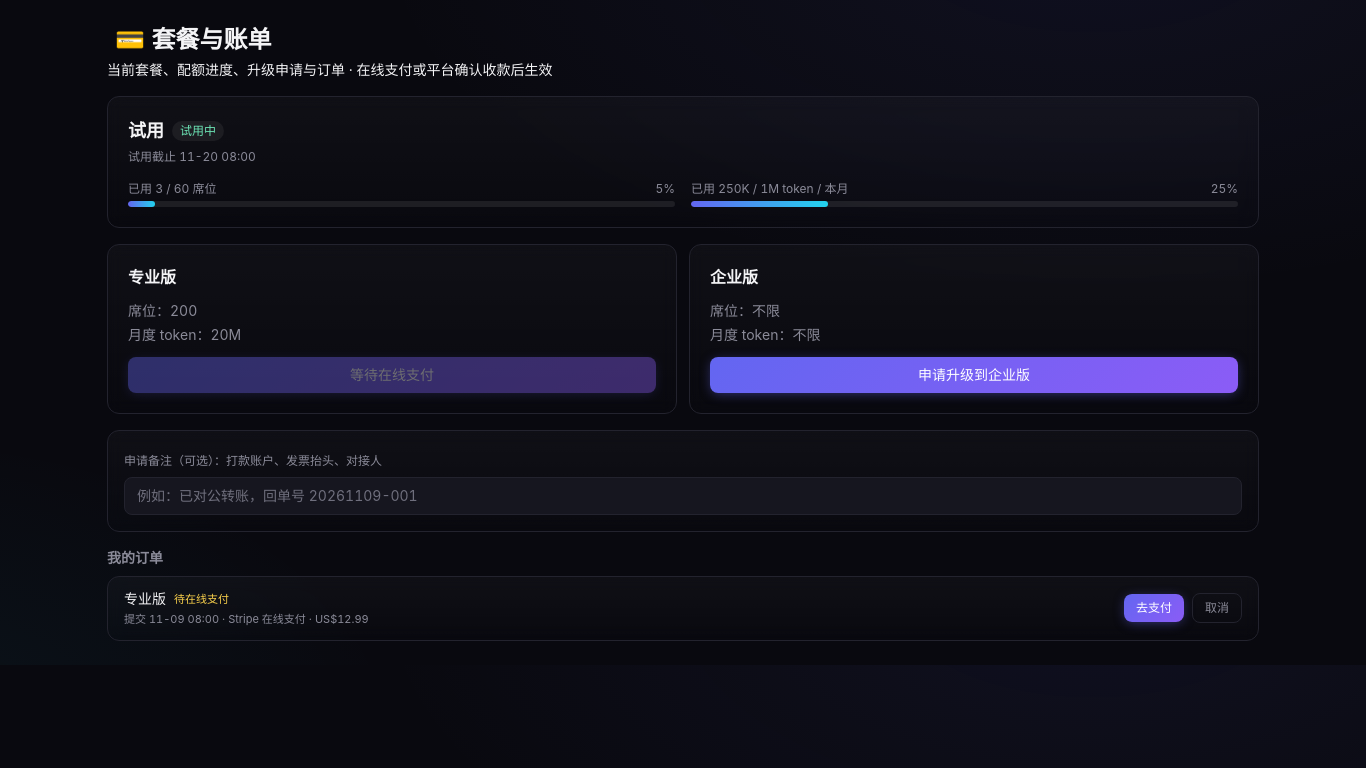
Test case: 套餐升级申请流 › 拒绝非 Stripe 结账地址，不跳转也不请求外链
Check: the heading "💳 套餐与账单" is shown, box [115, 25, 271, 54]
Click the button "去支付" at (1154, 608), box [1124, 594, 1184, 622]
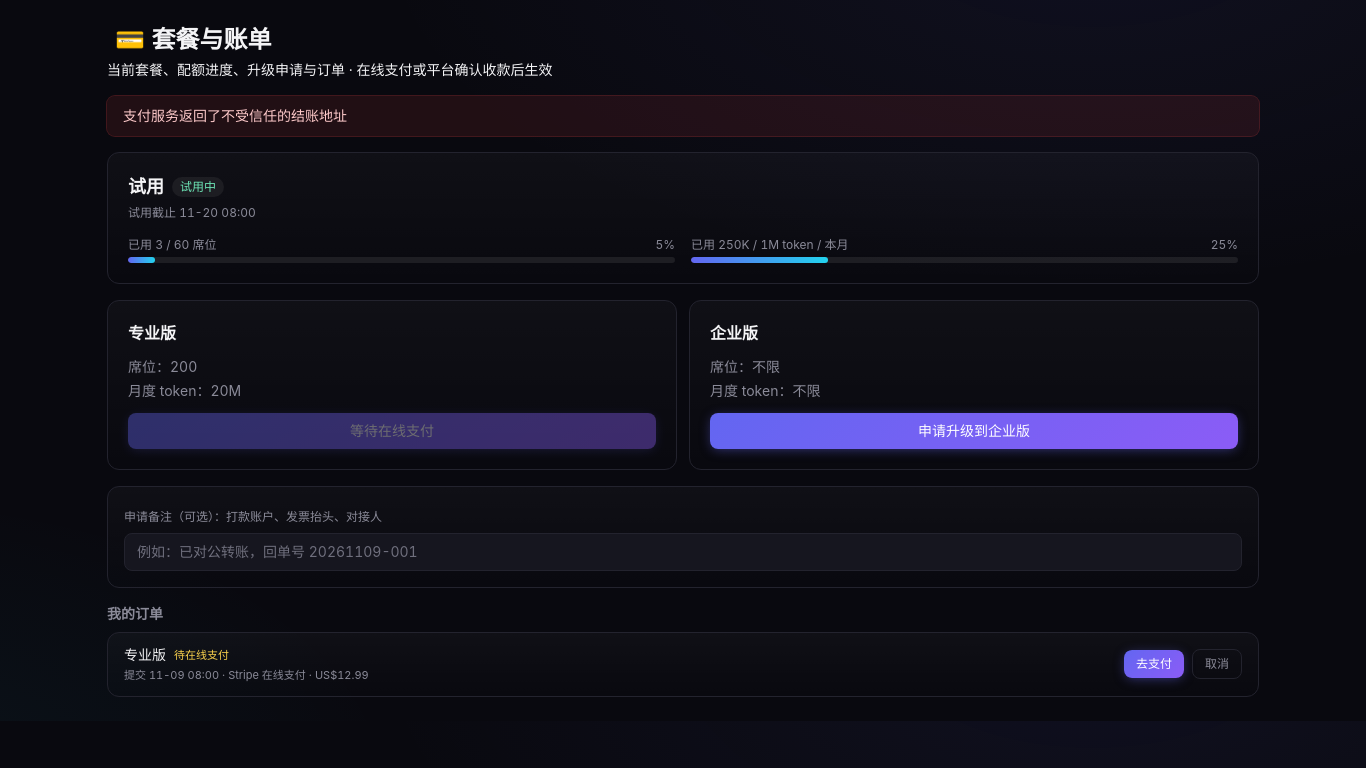
Check: the text "支付服务返回了不受信任的结账地址" is shown, box [107, 96, 1259, 136]
